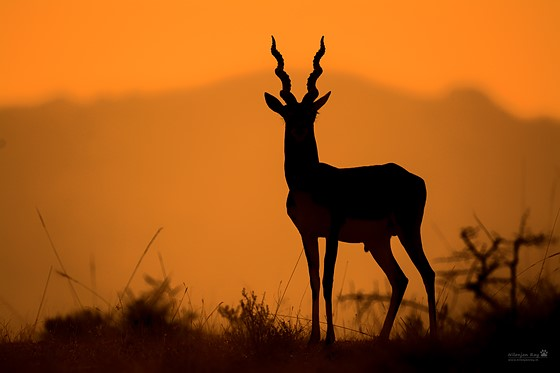Blackbuck: (264, 36, 444, 350)
